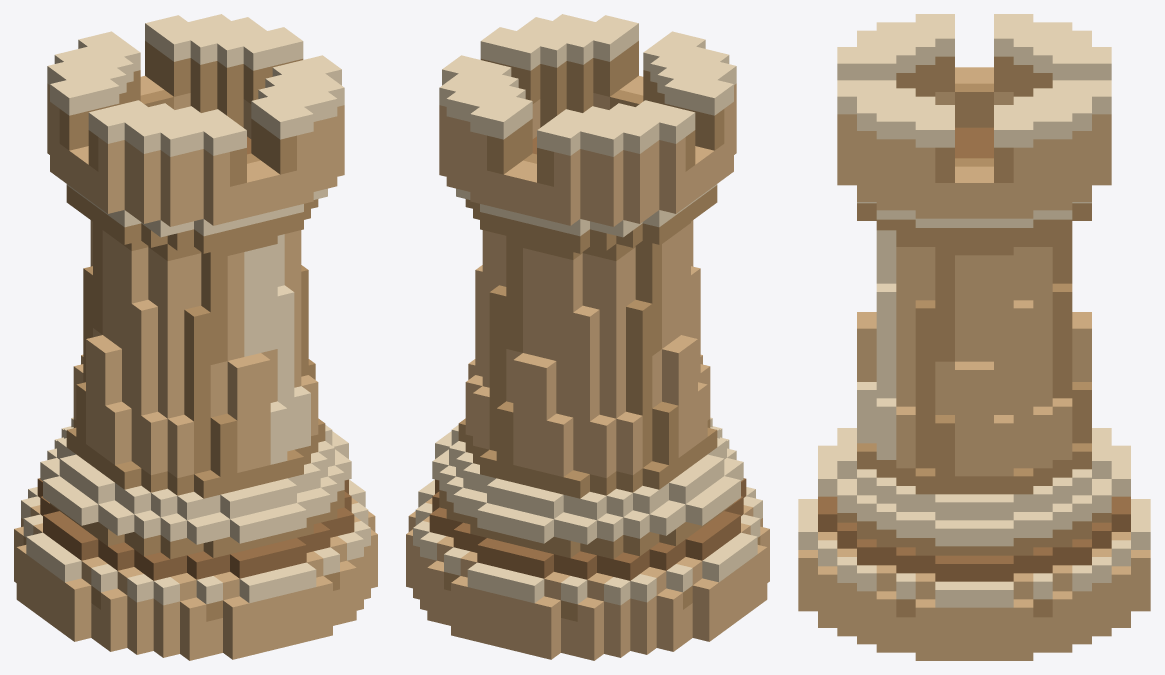
Rendered from rook.obj.
3 views of the same model, side by side, from view 1: azimuth 30°, elevation 25°; view 2: azimuth 150°, elevation 25°; view 3: azimuth 270°, elevation 25° (orthographic).
Visible parts, largest first — view 1: rook; view 2: rook; view 3: rook.
Part boxes in pixels (bbox=[...]): rook: bbox=[14, 14, 377, 660]; rook: bbox=[406, 14, 769, 660]; rook: bbox=[798, 14, 1150, 660].
Size of the model in its own units: 0.378 by 0.609 by 0.378.
Materials: 1 (1 with a texture image).
